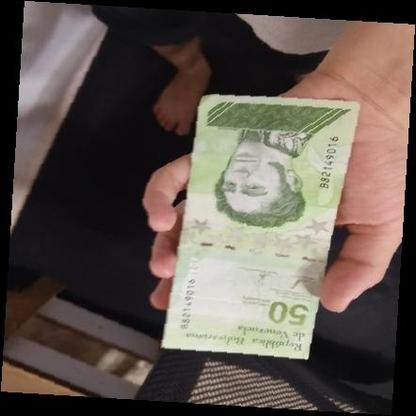fifty-front-vef: (160, 93, 361, 358)
